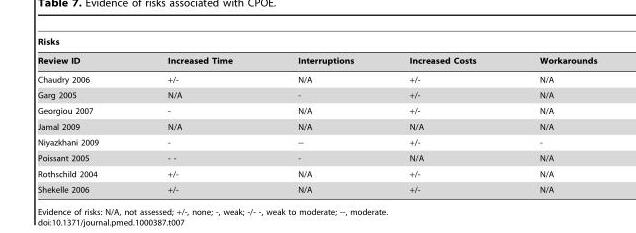table: (37, 37, 596, 194)
table column: (132, 37, 264, 194), (381, 37, 507, 194), (264, 37, 381, 194), (37, 37, 132, 194), (507, 37, 596, 194)
table column header: (37, 37, 596, 68)
table row: (37, 68, 596, 86), (37, 51, 596, 68), (37, 133, 596, 150), (37, 86, 596, 102), (37, 102, 596, 118), (37, 164, 596, 180), (37, 118, 596, 133), (37, 37, 596, 51), (37, 150, 596, 164), (37, 180, 596, 194)
table spanning cell: (37, 37, 596, 51)
